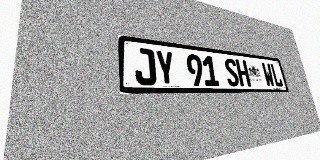1: (201, 55, 219, 86)
9: (186, 53, 205, 86)
H: (235, 59, 251, 87)
J: (134, 47, 157, 85)
L: (270, 63, 284, 87)
S: (223, 58, 240, 86)
W: (261, 62, 275, 87)
Y: (155, 50, 176, 86)
